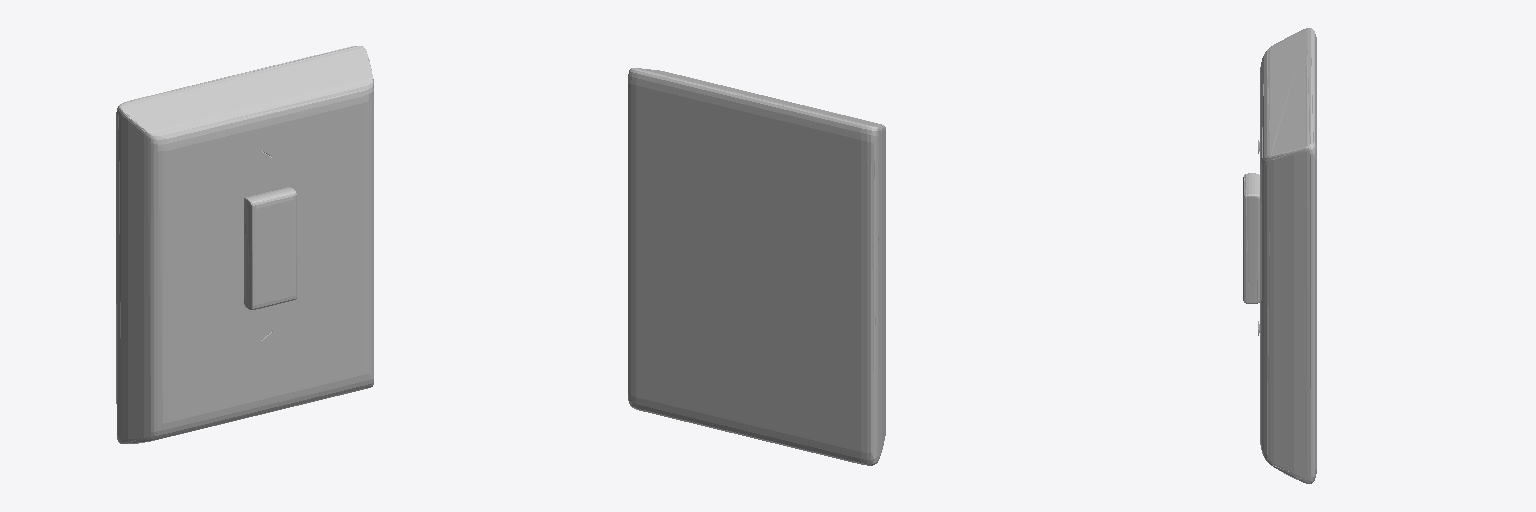
Rendered from LightSwitch_obj.obj.
3 views of the same model, side by side, from view 1: azimuth 30°, elevation 25°; view 2: azimuth 150°, elevation 25°; view 3: azimuth 270°, elevation 25° (orthographic).
Parts seen in each view (by area): view 1: LightSwitch; view 2: LightSwitch; view 3: LightSwitch.
Boxes of the visible parts, x1=… form: LightSwitch: x1=116, y1=46, x2=373, y2=443; LightSwitch: x1=628, y1=68, x2=885, y2=465; LightSwitch: x1=1243, y1=28, x2=1316, y2=483.
Size of the model in its own units: 0.0962 by 0.1261 by 0.0251.